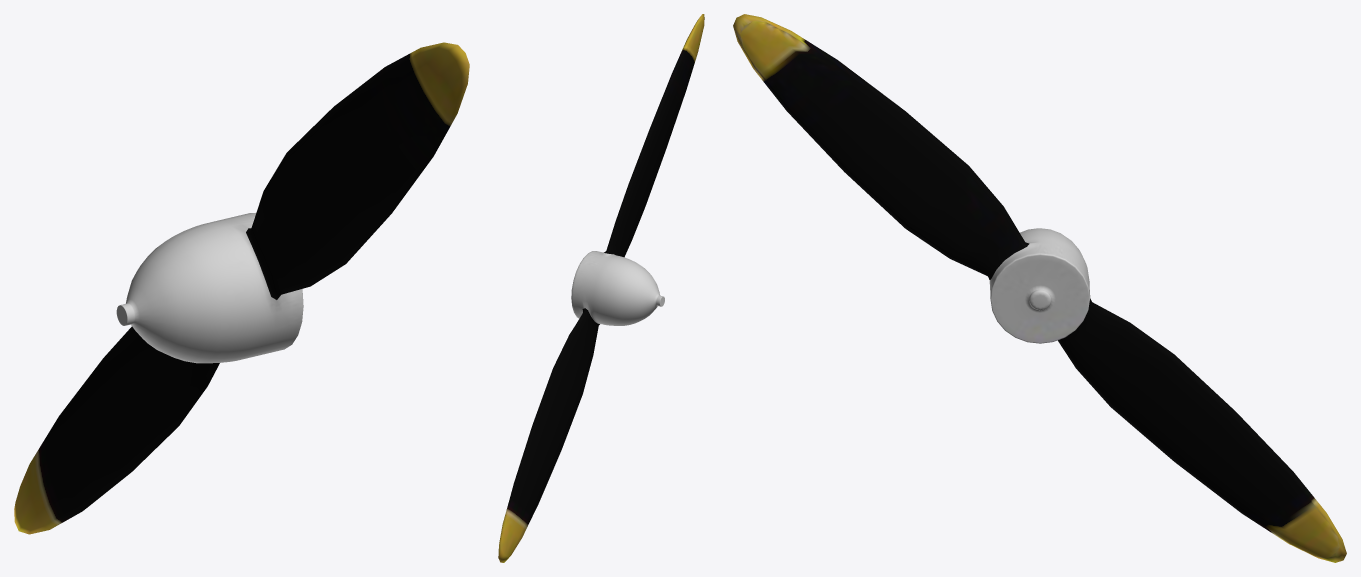
The model's file is plane_propeller.obj.
The picture shows the model from 3 angles, left to right: view 1: azimuth 30°, elevation 25°; view 2: azimuth 150°, elevation 25°; view 3: azimuth 270°, elevation 25°; orthographic projection. The views are drawn at different scales.
Parts seen in each view (by area): view 1: Propeller_11804_Airplane_v2_l2.001; view 2: Propeller_11804_Airplane_v2_l2.001; view 3: Propeller_11804_Airplane_v2_l2.001.
Part boxes in pixels (box(x1,y1,x2,y2)): Propeller_11804_Airplane_v2_l2.001: box(14, 42, 469, 534); Propeller_11804_Airplane_v2_l2.001: box(498, 14, 704, 562); Propeller_11804_Airplane_v2_l2.001: box(733, 14, 1346, 562).
Bounding box in the file's own units: 2.94 × 14.33 × 14.33.
